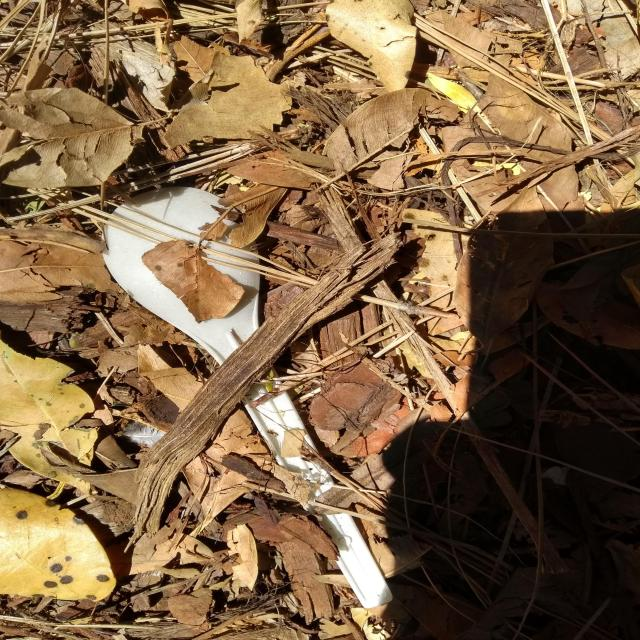litter: (91, 177, 397, 612)
